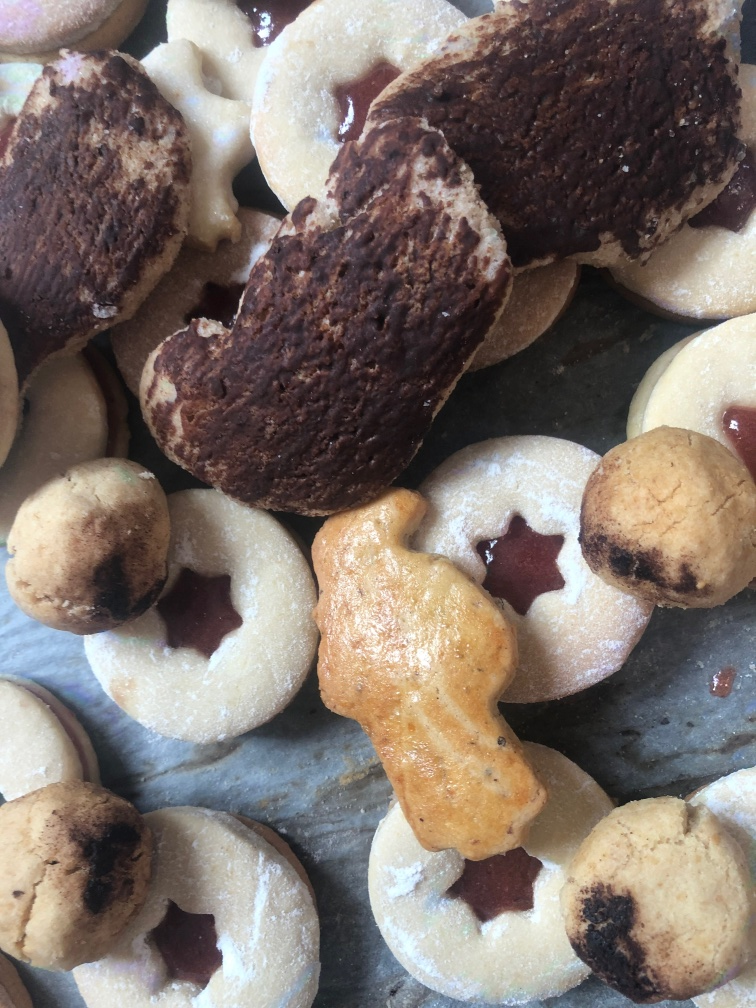christmas shortbread with jam: (366, 737, 607, 1008), (83, 482, 315, 752), (420, 436, 646, 709), (73, 802, 316, 1008), (250, 1, 476, 215), (649, 60, 756, 319), (632, 317, 756, 454), (163, 1, 292, 94)
santa claus: (310, 484, 542, 863)
snowball: (562, 796, 753, 1001), (580, 419, 756, 619), (6, 454, 183, 635), (1, 782, 155, 973)
star: (121, 41, 253, 248)
weird #1: (140, 124, 511, 517), (371, 1, 745, 258), (1, 46, 188, 330)
